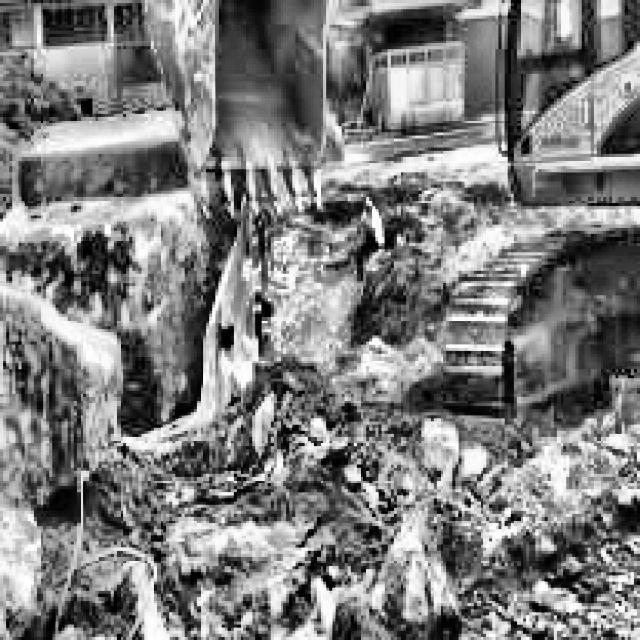excavator: (138, 0, 639, 495)
